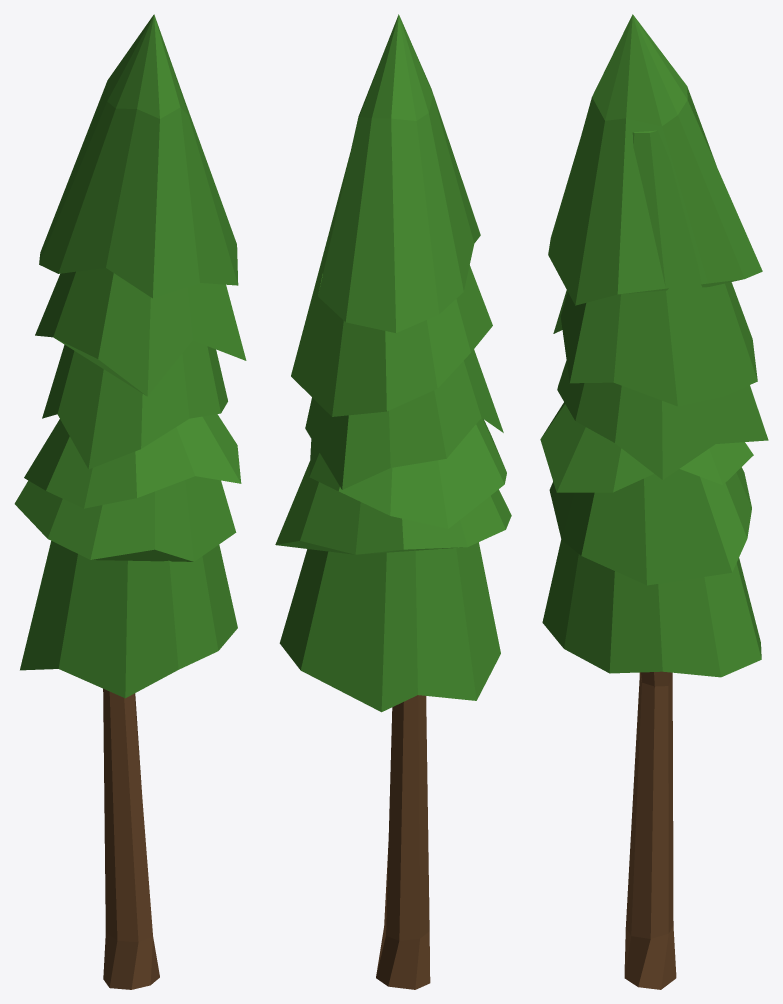
Rendered from pine_tree_2.glb.
The picture shows the model from 3 angles, left to right: view 1: azimuth 30°, elevation 25°; view 2: azimuth 150°, elevation 25°; view 3: azimuth 270°, elevation 25°; orthographic projection.
Parts seen in each view (by area): view 1: tree_pine_2; view 2: tree_pine_2; view 3: tree_pine_2.
Boxes of the visible parts, x1,y1,x2,y2 form: tree_pine_2: [14, 14, 246, 989]; tree_pine_2: [275, 14, 511, 989]; tree_pine_2: [540, 14, 768, 989].
Bounding box in the file's own units: 2.08 × 10.23 × 2.18.
